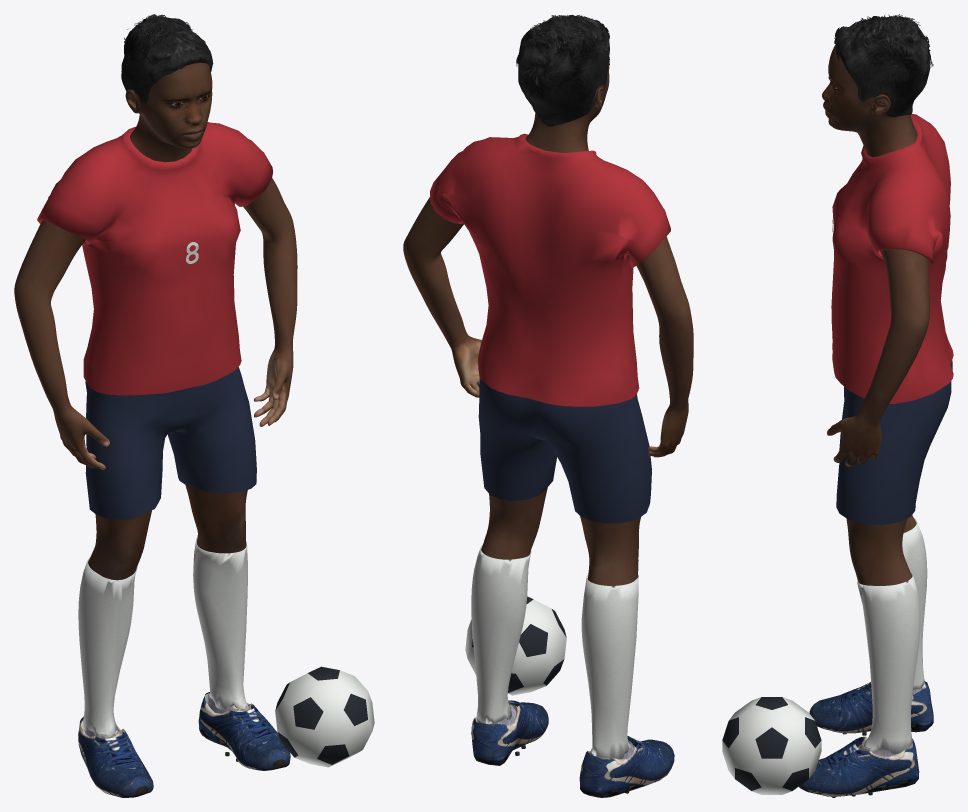
Rendered from footballer.glb.
3 views of the same model, side by side, from view 1: azimuth 30°, elevation 25°; view 2: azimuth 150°, elevation 25°; view 3: azimuth 270°, elevation 25° (orthographic). The views are drawn at different scales.
Parts seen in each view (by area): view 1: male_casualsuit04, Micah | anatomical body, shoes06, Soccer ball | pentagon and hexagon panels, Athletic sock | l, Athletic sock | r, short01; view 2: male_casualsuit04, Micah | anatomical body, Athletic sock | r, short01, Athletic sock | l, shoes06, Soccer ball | pentagon and hexagon panels; view 3: male_casualsuit04, Micah | anatomical body, Athletic sock | l, shoes06, Soccer ball | pentagon and hexagon panels, short01, Athletic sock | r.
Part boxes in pixels (x1=…): male_casualsuit04: x1=37, y1=122, x2=272, y2=519; Micah | anatomical body: x1=14, y1=63, x2=297, y2=729; shoes06: x1=78, y1=692, x2=290, y2=797; Soccer ball | pentagon and hexagon panels: x1=275, y1=666, x2=374, y2=767; Athletic sock | l: x1=193, y1=536, x2=248, y2=709; Athletic sock | r: x1=78, y1=556, x2=137, y2=735; short01: x1=121, y1=14, x2=213, y2=103; male_casualsuit04: x1=430, y1=133, x2=670, y2=523; Micah | anatomical body: x1=403, y1=62, x2=693, y2=719; Athletic sock | r: x1=581, y1=574, x2=638, y2=759; short01: x1=516, y1=14, x2=609, y2=126; Athletic sock | l: x1=471, y1=544, x2=531, y2=724; shoes06: x1=471, y1=700, x2=674, y2=797; Soccer ball | pentagon and hexagon panels: x1=465, y1=596, x2=566, y2=695; male_casualsuit04: x1=831, y1=114, x2=953, y2=525; Micah | anatomical body: x1=822, y1=45, x2=929, y2=585; Athletic sock | l: x1=857, y1=572, x2=920, y2=755; shoes06: x1=799, y1=681, x2=933, y2=796; Soccer ball | pentagon and hexagon panels: x1=722, y1=697, x2=821, y2=794; short01: x1=834, y1=14, x2=933, y2=117; Athletic sock | r: x1=902, y1=518, x2=927, y2=689.
Size of the model in its own units: 0.7278 by 1.84 by 0.5196.
13 materials, 13 textured.
